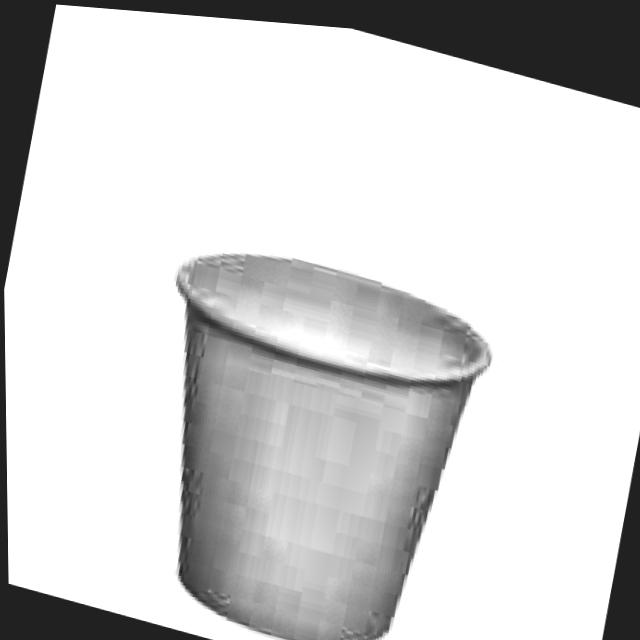Cup: (105, 204, 519, 640)
